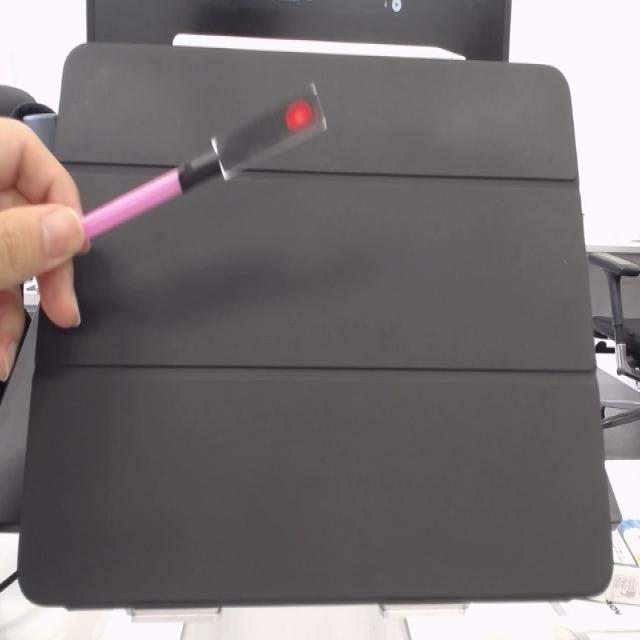traffic light: (218, 84, 328, 173)
